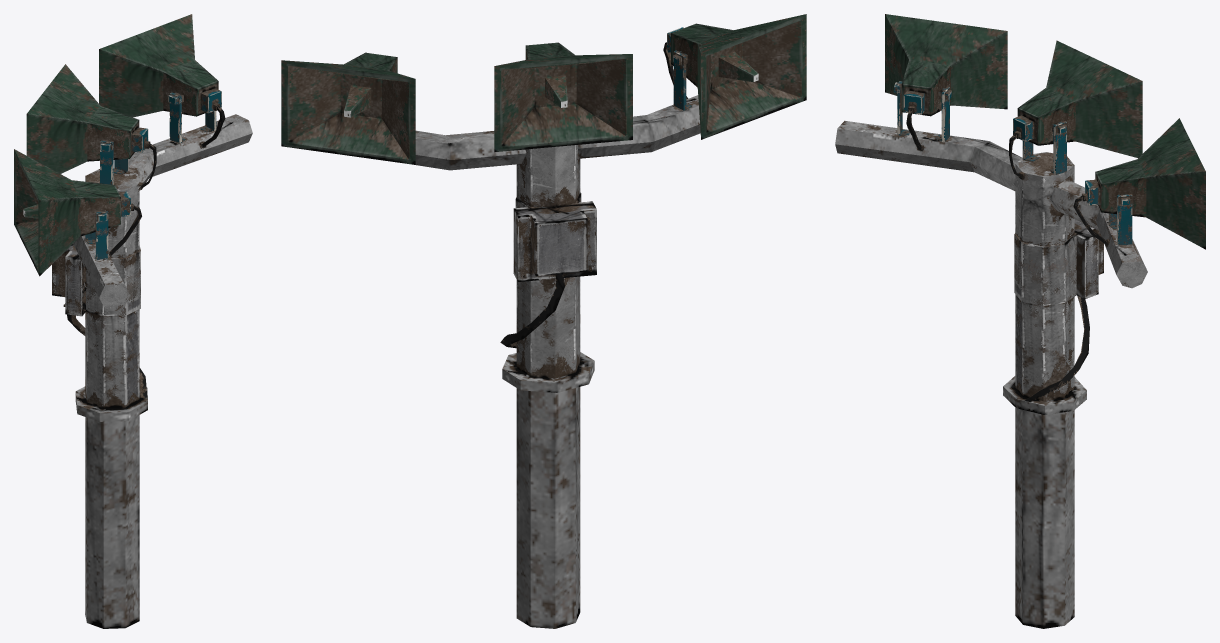
File: LoudSpeaker.fbx
3 views of the same model, side by side, from view 1: azimuth 30°, elevation 25°; view 2: azimuth 150°, elevation 25°; view 3: azimuth 270°, elevation 25° (orthographic). The views are drawn at different scales.
Parts seen in each view (by area): view 1: pipe, loud1, loud3, loud2; view 2: pipe, loud2, loud1, loud3; view 3: pipe, loud3, loud2, loud1.
Boxes of the visible parts, box(x1,y1,x2,y2) form: pipe: box(52, 114, 252, 628); loud1: box(99, 14, 225, 148); loud3: box(14, 149, 141, 276); loud2: box(26, 64, 156, 189); pipe: box(415, 95, 700, 628); loud2: box(494, 42, 632, 152); loud1: box(281, 52, 415, 164); loud3: box(663, 14, 806, 139); pipe: box(835, 120, 1147, 628); loud3: box(885, 14, 1007, 151); loud2: box(1009, 40, 1142, 179); loud1: box(1073, 118, 1205, 249).
Size of the model in its own units: 739 by 1127 by 707.
